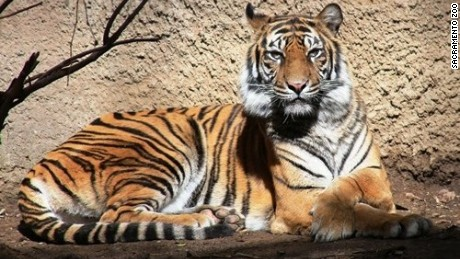Tiger: (11, 12, 443, 253)
